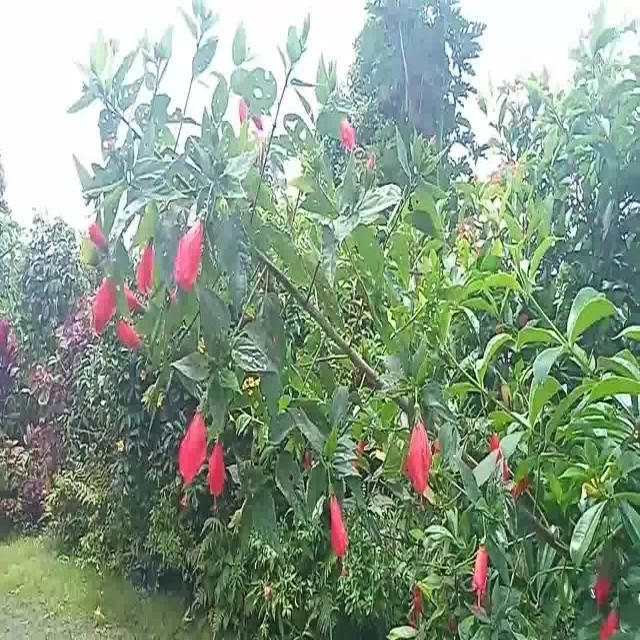Flower: (178, 389, 210, 495), (177, 213, 211, 294), (323, 486, 353, 562), (206, 438, 238, 505), (408, 413, 430, 509), (469, 538, 497, 611), (135, 236, 163, 302), (94, 269, 119, 341)
